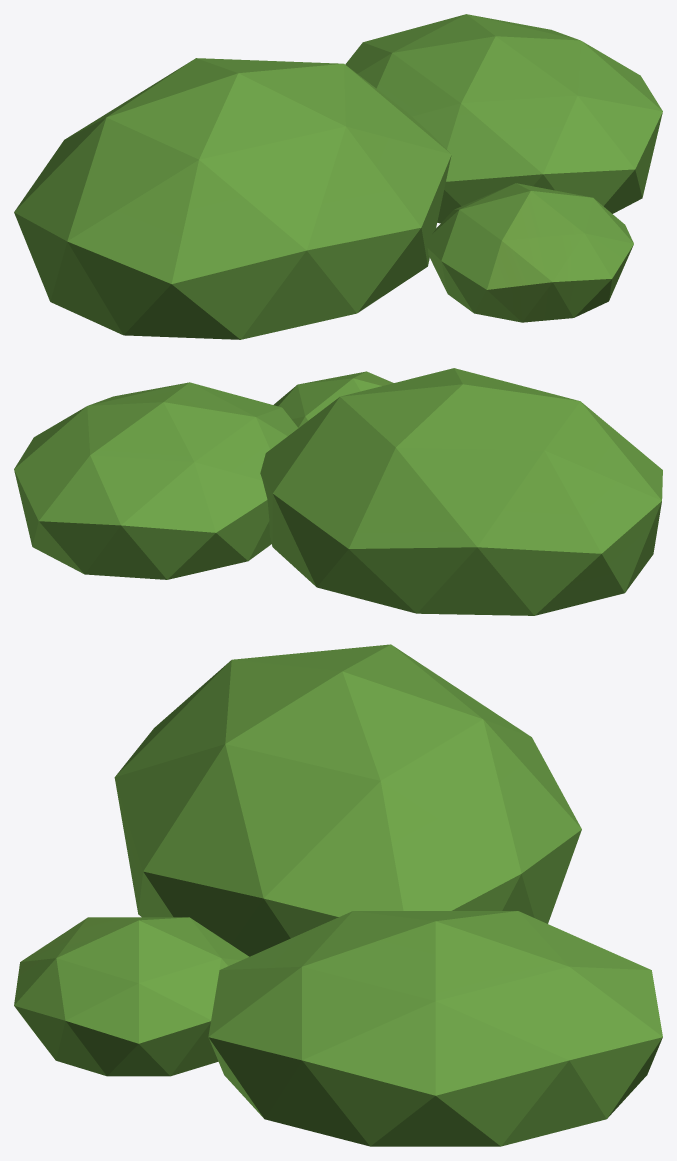
Rendered from Bush.fbx.
The picture shows the model from 3 angles, top to bottom: view 1: azimuth 30°, elevation 25°; view 2: azimuth 150°, elevation 25°; view 3: azimuth 270°, elevation 25°; orthographic projection. The views are drawn at different scales.
Visible parts, largest first — view 1: Bush; view 2: Bush; view 3: Bush.
Part boxes in pixels (bbox=[...]): Bush: bbox=[14, 14, 662, 339]; Bush: bbox=[14, 368, 662, 615]; Bush: bbox=[14, 644, 662, 1146].
Bounding box in the file's own units: 269 × 81.34 × 197.
